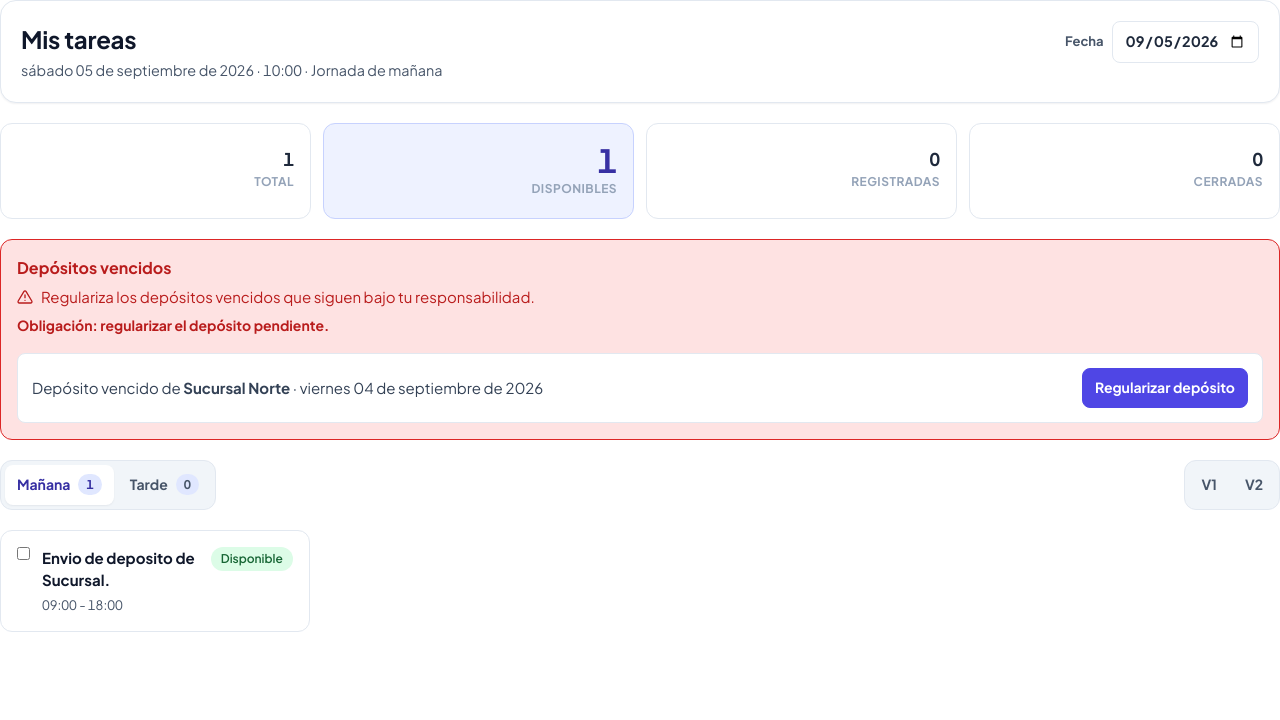
Test: MisTareasPage deposit demonstrations › maps pending compliance objects to the opaque bridge and opens the returned late GS report
Click the button with aria-label "Regularizar depósito vencido de Sucursal Norte": (1165,388) [1082,368,1248,408]
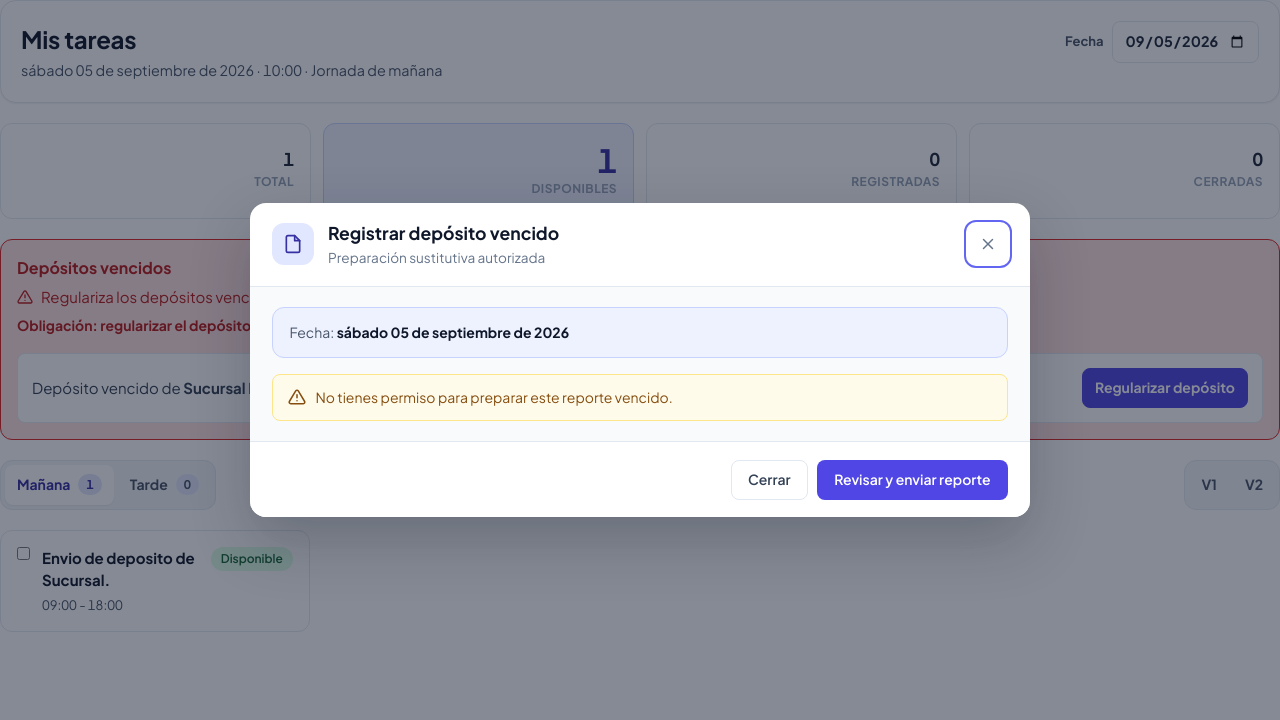
Expected: the heading "Depósitos vencidos" is shown, [17,257,172,278]
Now the dialog "Registrar depósito vencido" is shown, box [250,203,1030,517]
Now the text "No tienes permiso para preparar este reporte vencido." is shown, box [315,387,673,408]
